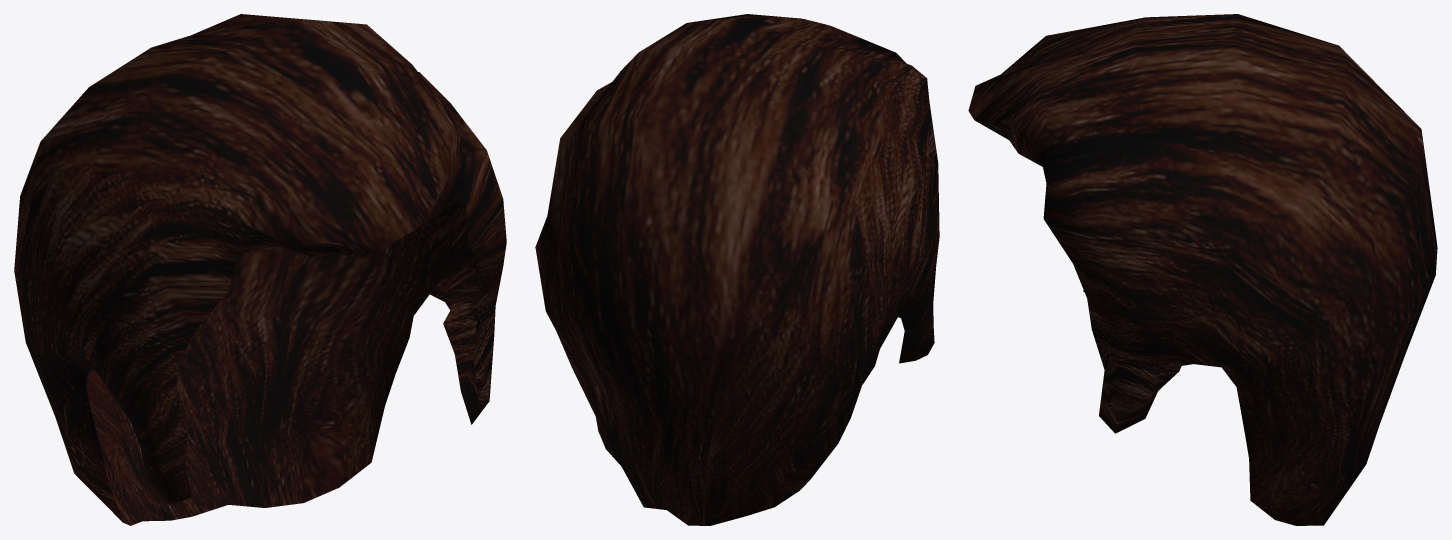
The model's file is pelo_02.FBX.
3 views of the same model, side by side, from view 1: azimuth 30°, elevation 25°; view 2: azimuth 150°, elevation 25°; view 3: azimuth 270°, elevation 25° (orthographic). The views are drawn at different scales.
Parts seen in each view (by area): view 1: pelo_02; view 2: pelo_02; view 3: pelo_02.
Part boxes in pixels (<box>): pelo_02: <box>14,14,506,525</box>; pelo_02: <box>535,14,939,525</box>; pelo_02: <box>968,14,1437,525</box>.
Bounding box in the file's own units: 17.25 × 21.5 × 19.4.
